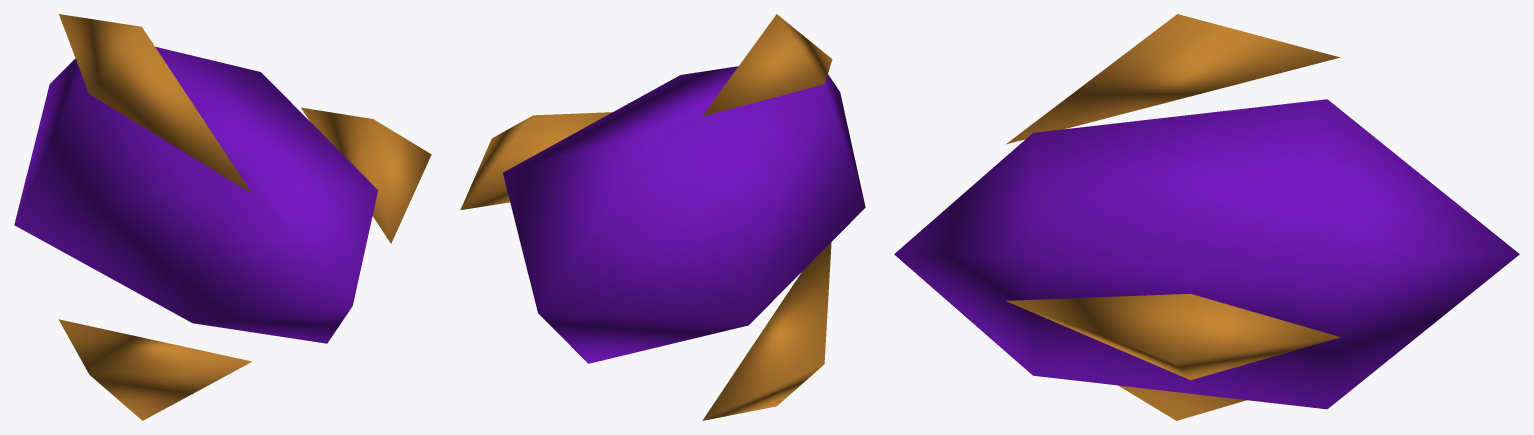
The model's file is SM_arc_projectile_LOD2.fbx.
The picture shows the model from 3 angles, left to right: view 1: azimuth 30°, elevation 25°; view 2: azimuth 150°, elevation 25°; view 3: azimuth 270°, elevation 25°; orthographic projection. The views are drawn at different scales.
Parts seen in each view (by area): view 1: SM_arc_projectile_LOD2; view 2: SM_arc_projectile_LOD2; view 3: SM_arc_projectile_LOD2.
Boxes of the visible parts, x1,y1,x2,y2 form: SM_arc_projectile_LOD2: (14, 14, 431, 420); SM_arc_projectile_LOD2: (460, 14, 865, 420); SM_arc_projectile_LOD2: (894, 14, 1519, 420).
Bounding box in the file's own units: 0.2011 × 0.312 × 0.2237.
